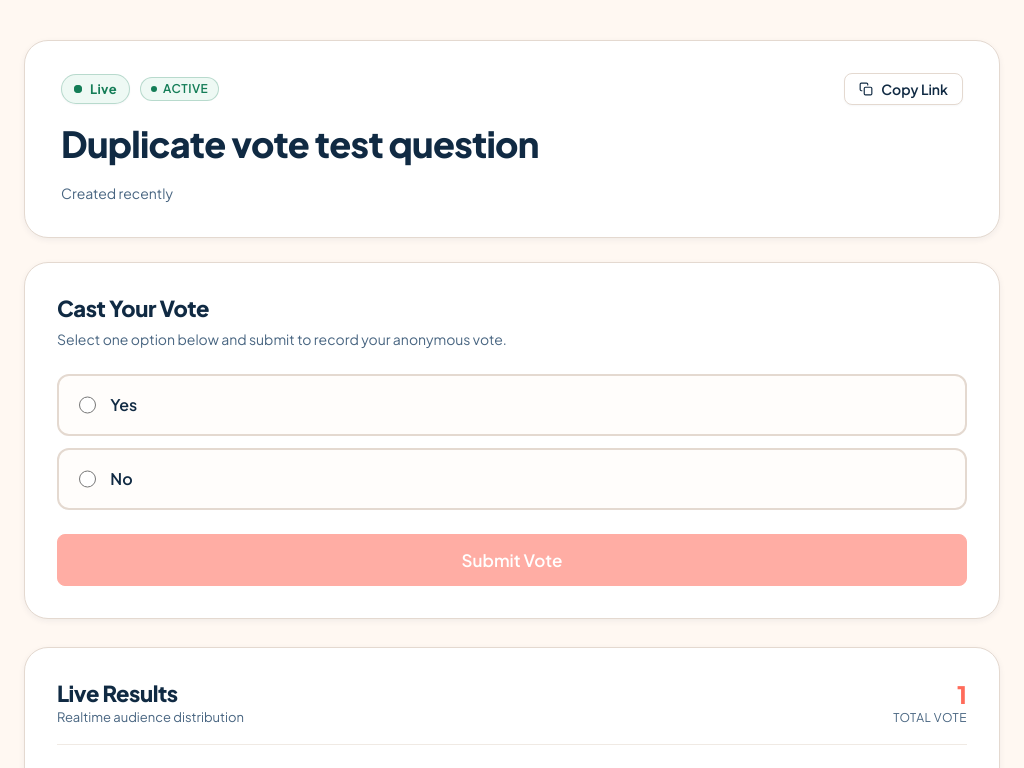
Test: PublicPollPage & Realtime WebSocket Events › handles duplicate vote (409 / DUPLICATE_VOTE) gracefully
Expected: the heading "Duplicate vote test question" is shown, [61,121,539,166]
Click the radio button labelled "Yes": (88, 405) [79,396,96,414]
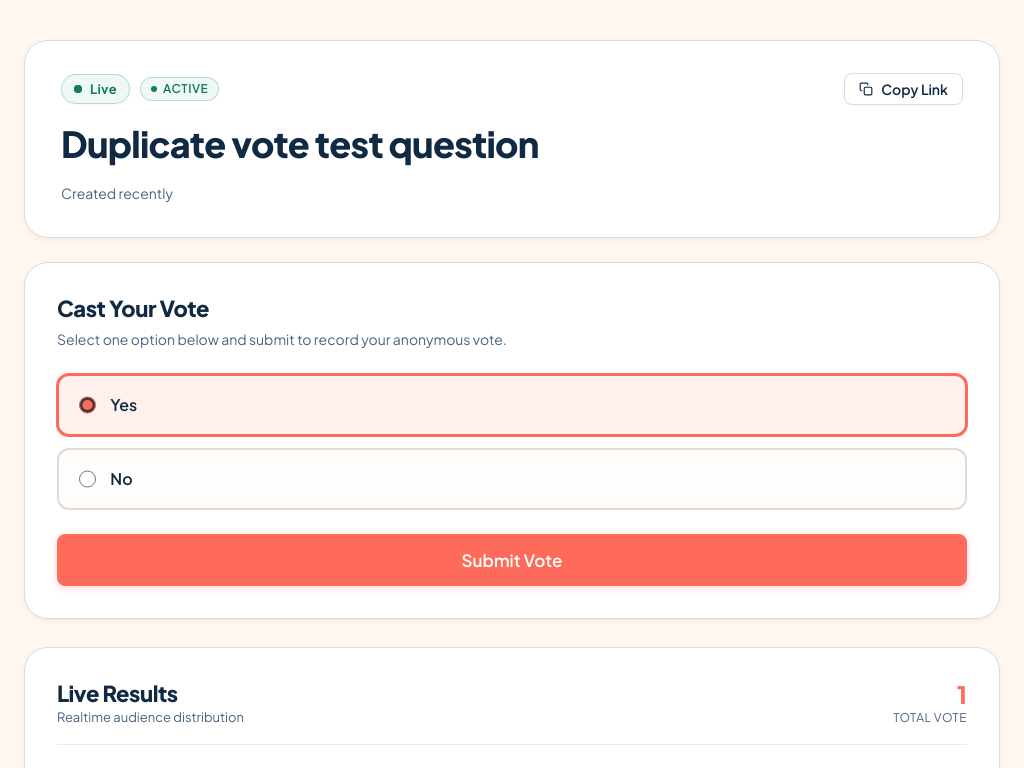
Click the button "Submit Vote": (512, 560) [57,534,967,586]
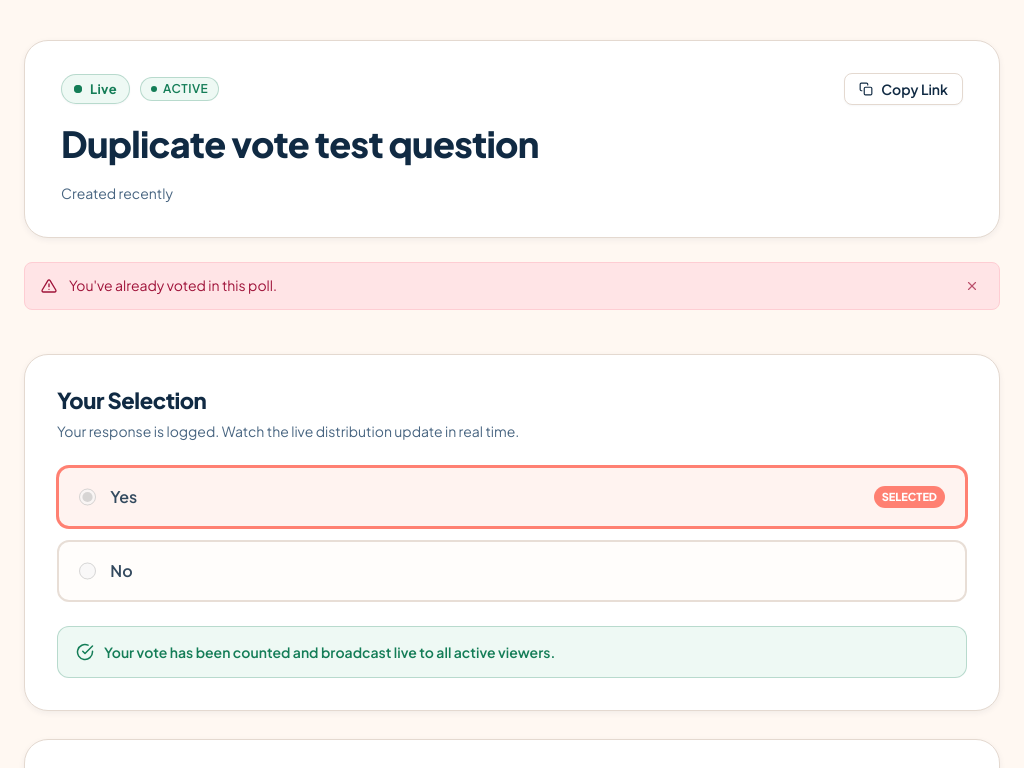
Now the text "You've already voted in this poll." is shown, box [69,276,277,294]
